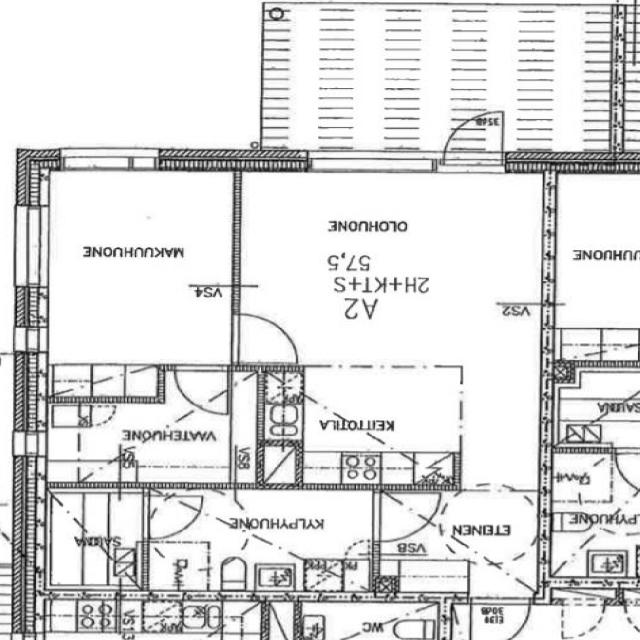door: (444, 103, 502, 170), (372, 493, 438, 541), (233, 314, 298, 362), (472, 590, 533, 640), (174, 365, 228, 414), (142, 496, 202, 539)
